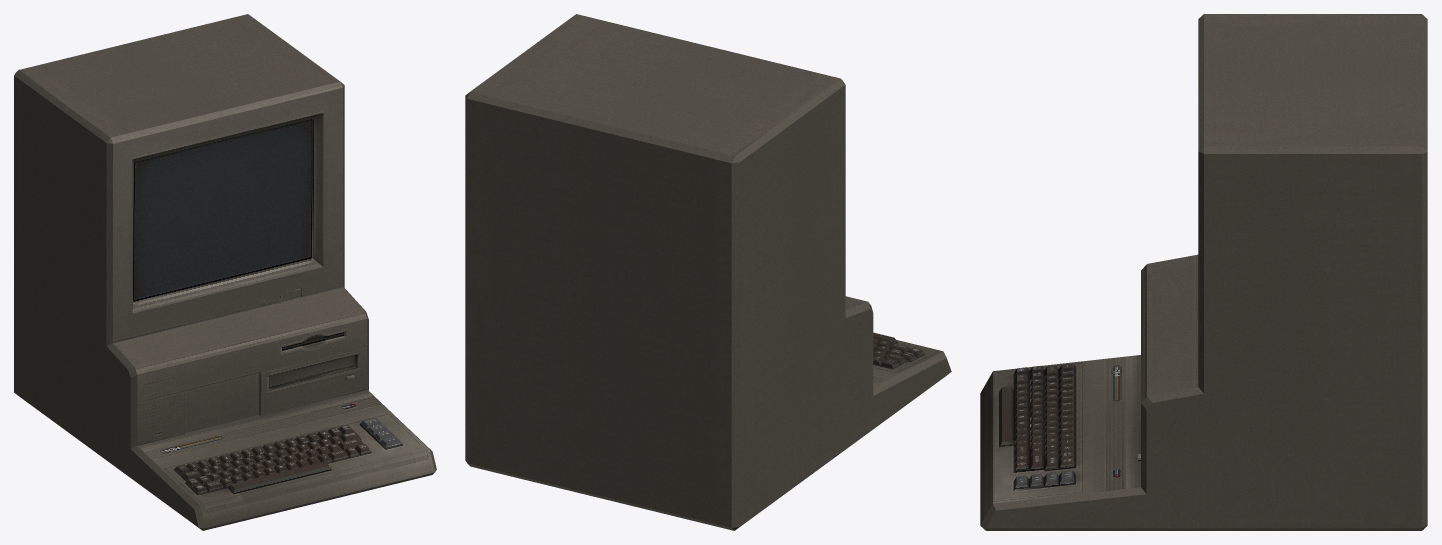
Rendered from computer_1.glb.
3 renders of one model, left to right at view 1: azimuth 30°, elevation 25°; view 2: azimuth 150°, elevation 25°; view 3: azimuth 270°, elevation 25°, orthographic. The views are drawn at different scales.
Parts seen in each view (by area): view 1: computer_1; view 2: computer_1; view 3: computer_1.
Part boxes in pixels (left/top/right/bottom): computer_1: left=14, top=14, right=436, bottom=530; computer_1: left=465, top=14, right=951, bottom=530; computer_1: left=980, top=14, right=1427, bottom=530.
Size of the model in its own units: 0.5946 by 0.777 by 0.819.
Materials: 2 (2 with a texture image).
